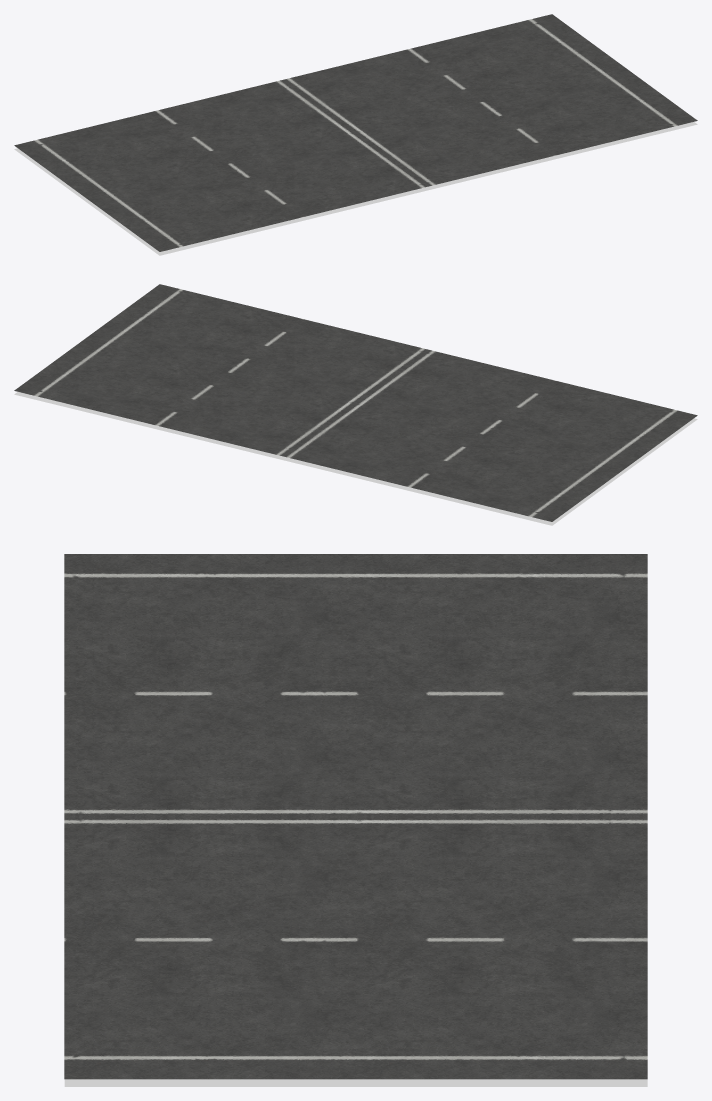
File: Straight 6 Lane No Sides.fbx
3 views of the same model, one above another, from view 1: azimuth 30°, elevation 25°; view 2: azimuth 150°, elevation 25°; view 3: azimuth 270°, elevation 25° (orthographic). The views are drawn at different scales.
Parts seen in each view (by area): view 1: Plane; view 2: Plane; view 3: Plane.
Part boxes in pixels (box(x1,y1,x2,y2)): Plane: box(14, 14, 697, 255); Plane: box(14, 284, 697, 525); Plane: box(64, 554, 647, 1086).
Size of the model in its own units: 2984 by 20 by 1400.
